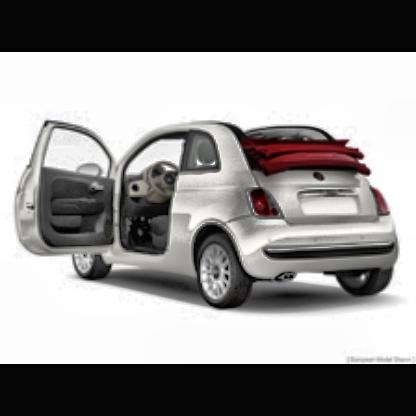FIAT 500 Convertible 2012: (21, 116, 403, 312)
